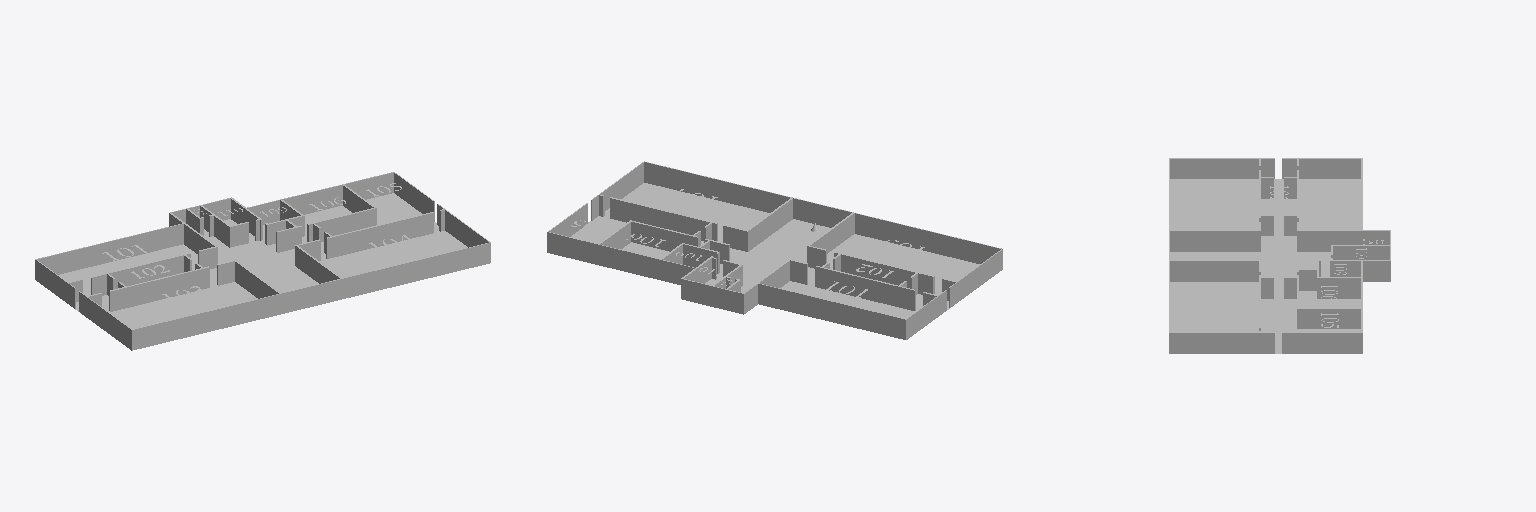
File: fey0.obj
3 renders of one model, left to right at view 1: azimuth 30°, elevation 25°; view 2: azimuth 150°, elevation 25°; view 3: azimuth 270°, elevation 25°, orthographic.
Visible parts, largest first — view 1: polySurface1, pCube1, pCube3, pCube35, pCube2, pCube19, pCube20, pCube4, pCube31, pCube14, pCube32, pCube38 (+7 smaller); view 2: polySurface1, pCube1, pCube3, pCube2, pCube20, pCube35, pCube19, pCube8, pCube4, pCube31, pCube32, pCube39 (+4 smaller); view 3: polySurface1, pCube39, pCube4, pCube32, pCube13, pCube38, pCube14, pCube9, pCube34, pCube7, pCube28, pCube10.
Boxes of the visible parts, x1=… form: polySurface1: x1=59, y1=193, x2=467, y2=329; pCube1: x1=131, y1=242, x2=490, y2=350; pCube3: x1=35, y1=223, x2=183, y2=279; pCube35: x1=326, y1=212, x2=433, y2=258; pCube2: x1=247, y1=172, x2=393, y2=224; pCube19: x1=109, y1=266, x2=209, y2=311; pCube20: x1=91, y1=253, x2=190, y2=295; pCube4: x1=79, y1=291, x2=132, y2=349; pCube31: x1=307, y1=207, x2=376, y2=241; pCube14: x1=35, y1=260, x2=75, y2=308; pCube32: x1=295, y1=245, x2=341, y2=283; pCube38: x1=394, y1=172, x2=434, y2=221; polySurface1: x1=571, y1=183, x2=979, y2=318; pCube1: x1=644, y1=161, x2=1001, y2=263; pCube3: x1=758, y1=283, x2=906, y2=339; pCube2: x1=547, y1=232, x2=694, y2=284; pCube20: x1=815, y1=266, x2=915, y2=310; pCube35: x1=610, y1=197, x2=717, y2=240; pCube19: x1=834, y1=252, x2=934, y2=294; pCube8: x1=681, y1=278, x2=744, y2=314; pCube4: x1=949, y1=249, x2=1002, y2=307; pCube31: x1=630, y1=220, x2=698, y2=251; pCube32: x1=746, y1=198, x2=792, y2=251; pCube39: x1=591, y1=162, x2=643, y2=220; polySurface1: x1=1170, y1=179, x2=1360, y2=353; pCube39: x1=1169, y1=333, x2=1274, y2=353; pCube4: x1=1169, y1=158, x2=1274, y2=178; pCube32: x1=1170, y1=260, x2=1260, y2=281; pCube13: x1=1170, y1=230, x2=1258, y2=251; pCube38: x1=1282, y1=333, x2=1362, y2=353; pCube14: x1=1282, y1=158, x2=1362, y2=178; pCube9: x1=1299, y1=230, x2=1389, y2=251; pCube34: x1=1298, y1=308, x2=1360, y2=328; pCube7: x1=1330, y1=260, x2=1390, y2=281; pCube28: x1=1317, y1=277, x2=1360, y2=298; pCube10: x1=1331, y1=245, x2=1389, y2=259.
Bounding box in the file's own units: 3640 × 202 × 1950.